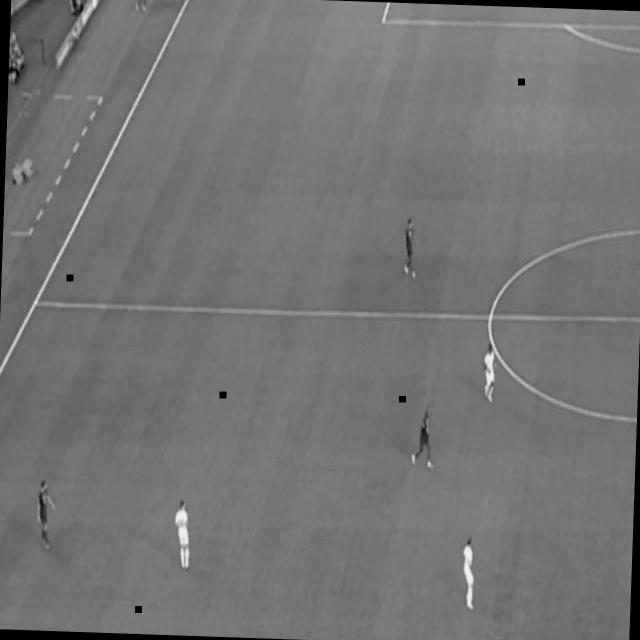player-white: (409, 404, 435, 470), (34, 478, 57, 552), (171, 499, 193, 572), (458, 536, 476, 609), (401, 217, 418, 280), (482, 344, 498, 404)
